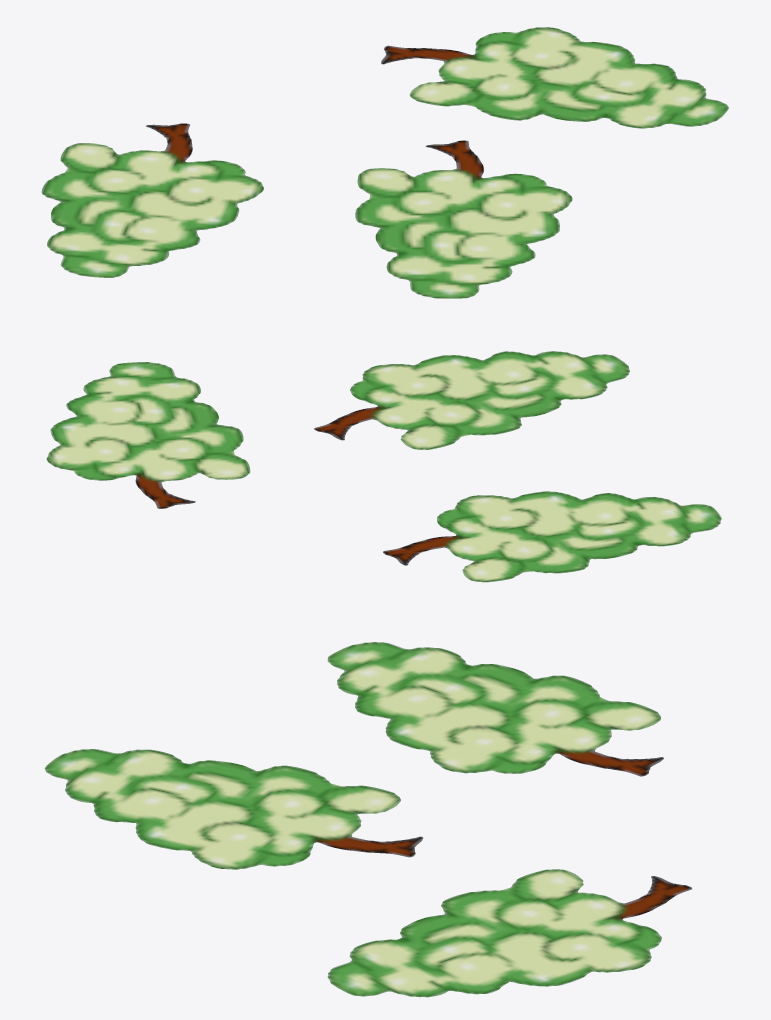
File: giftgoods111e.fbx
The picture shows the model from 3 angles, top to bottom: view 1: azimuth 30°, elevation 25°; view 2: azimuth 150°, elevation 25°; view 3: azimuth 270°, elevation 25°; orthographic projection. The views are drawn at different scales.
Parts seen in each view (by area): view 1: giftgoods111e; view 2: giftgoods111e; view 3: giftgoods111e.
Boxes of the visible parts, box(x1,y1,x2,y2) form: giftgoods111e: box(41, 27, 728, 298); giftgoods111e: box(46, 351, 721, 582); giftgoods111e: box(44, 642, 692, 997).
Size of the model in its own units: 0.8809 by 0.0178 by 0.7071.
